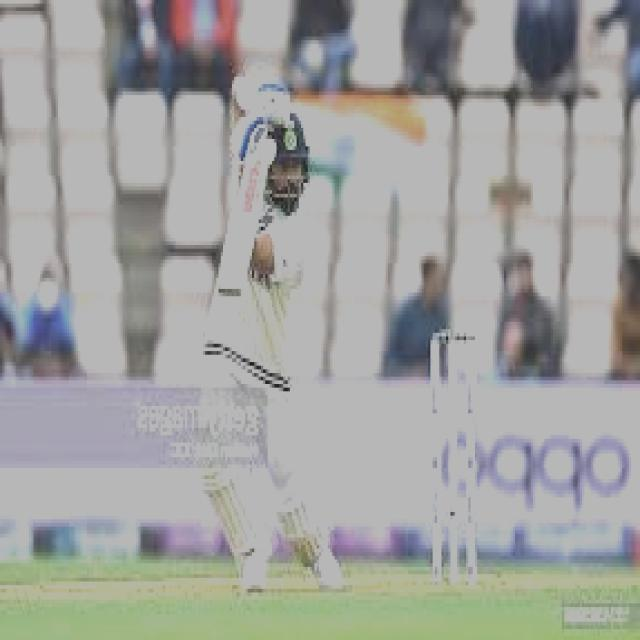bat: (214, 160, 273, 303)
toe: (220, 286, 242, 298)
